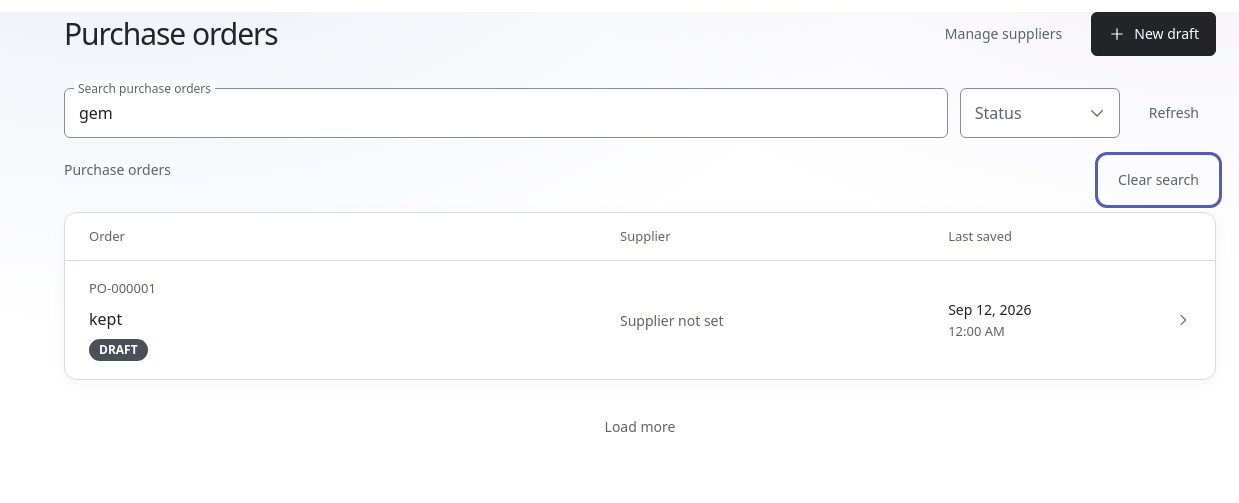
announces completed results and returns focus to search when cleared
Click the button "Clear search": (1158, 180) 1101,158 -> 1216,202
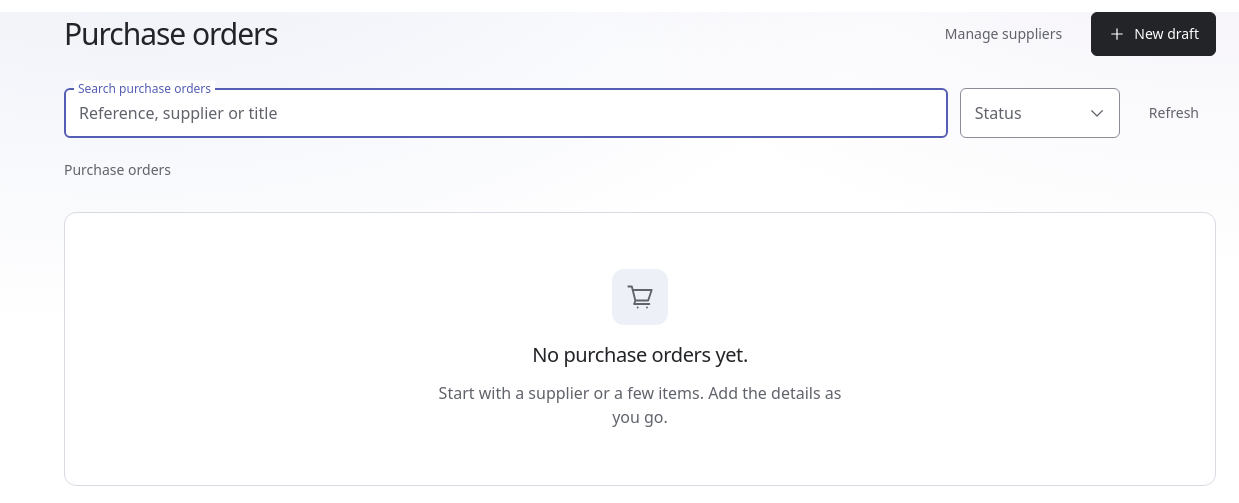
Expected: the heading "No purchase orders yet." is shown, 532,341 -> 748,369
